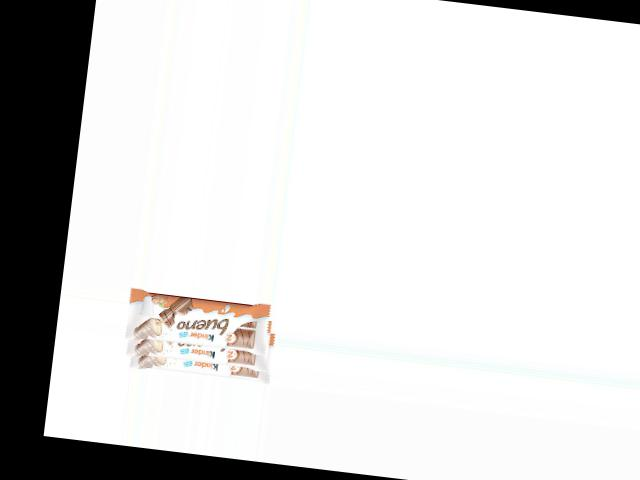chocolate: (124, 286, 278, 384)
